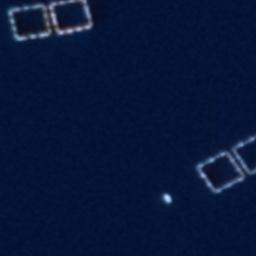square_solid: (191, 145, 247, 194), (7, 2, 56, 43), (47, 1, 94, 34), (230, 129, 256, 179)
